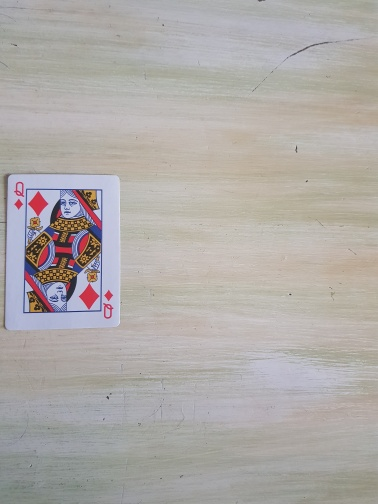queen: (3, 173, 122, 332)
